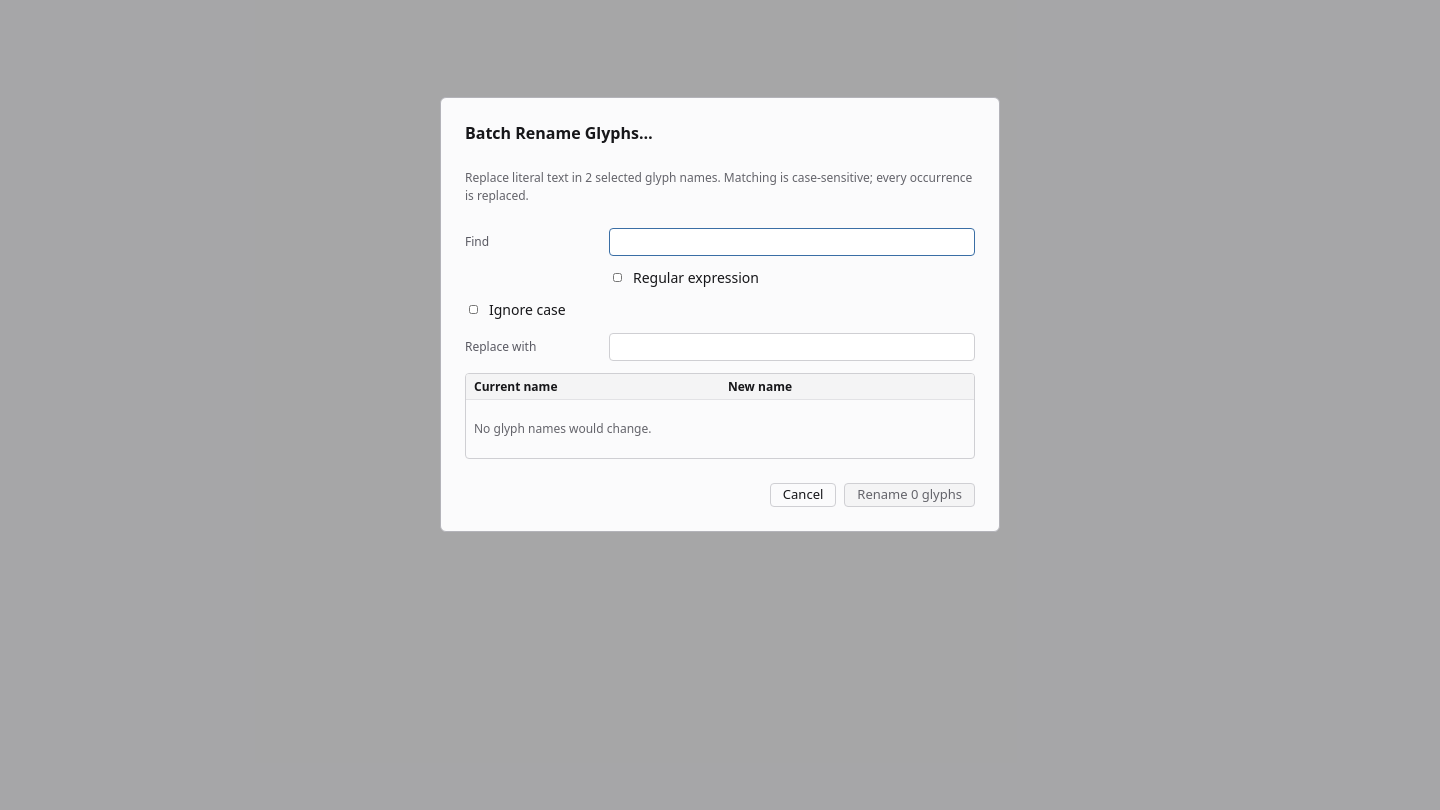
it: BatchRenameDialog › matches loosely only while Ignore case is on
Type "acute" into the field labelled "Find" at (792, 242), box [609,228,975,256]
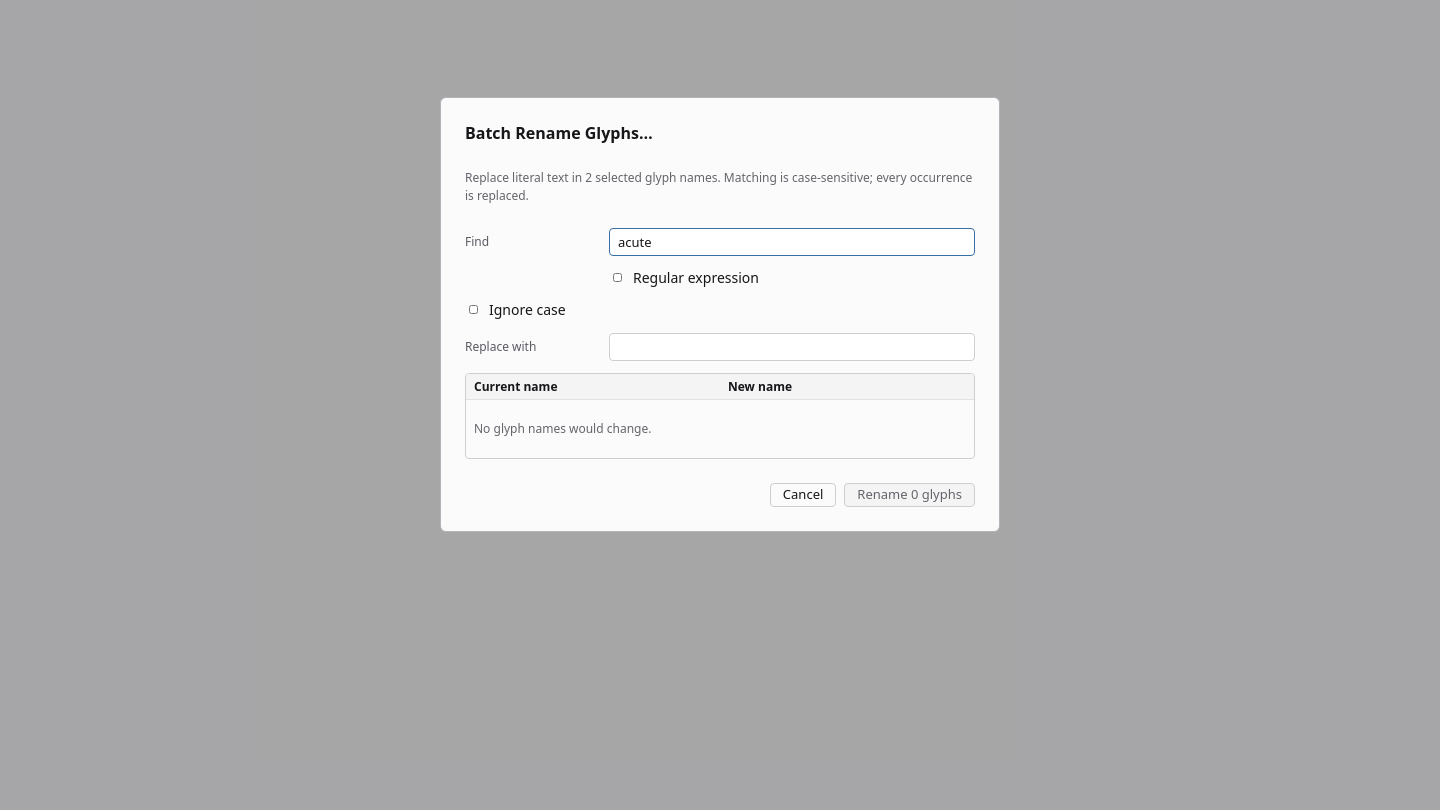
Expected: the text "No glyph names would change." is shown, [474,420,651,437]
Click the checkbox labelled "Ignore case" at (474, 310), box [469,304,478,316]
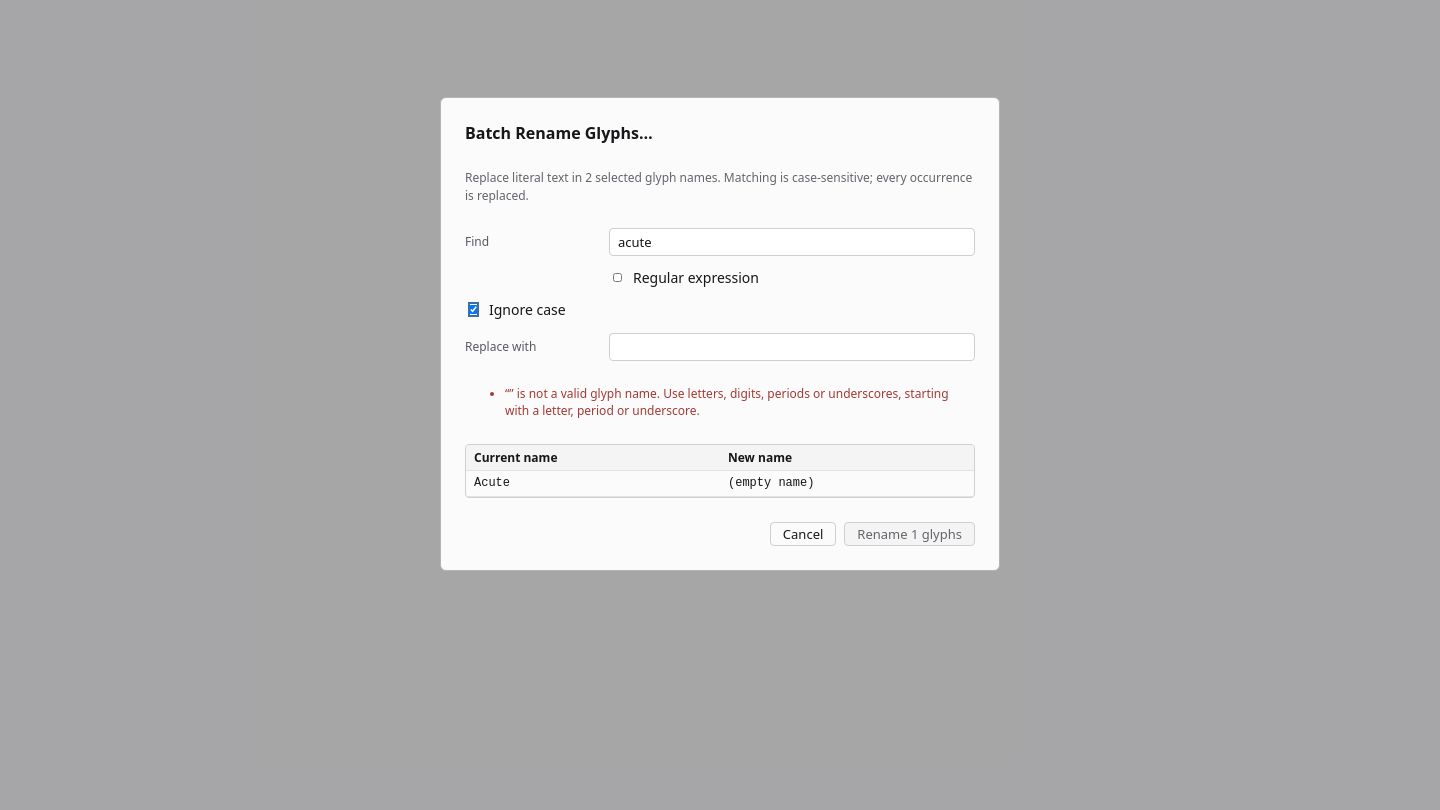
Type "grave" into the field labelled "Replace with" at (792, 347), box [609,333,975,361]
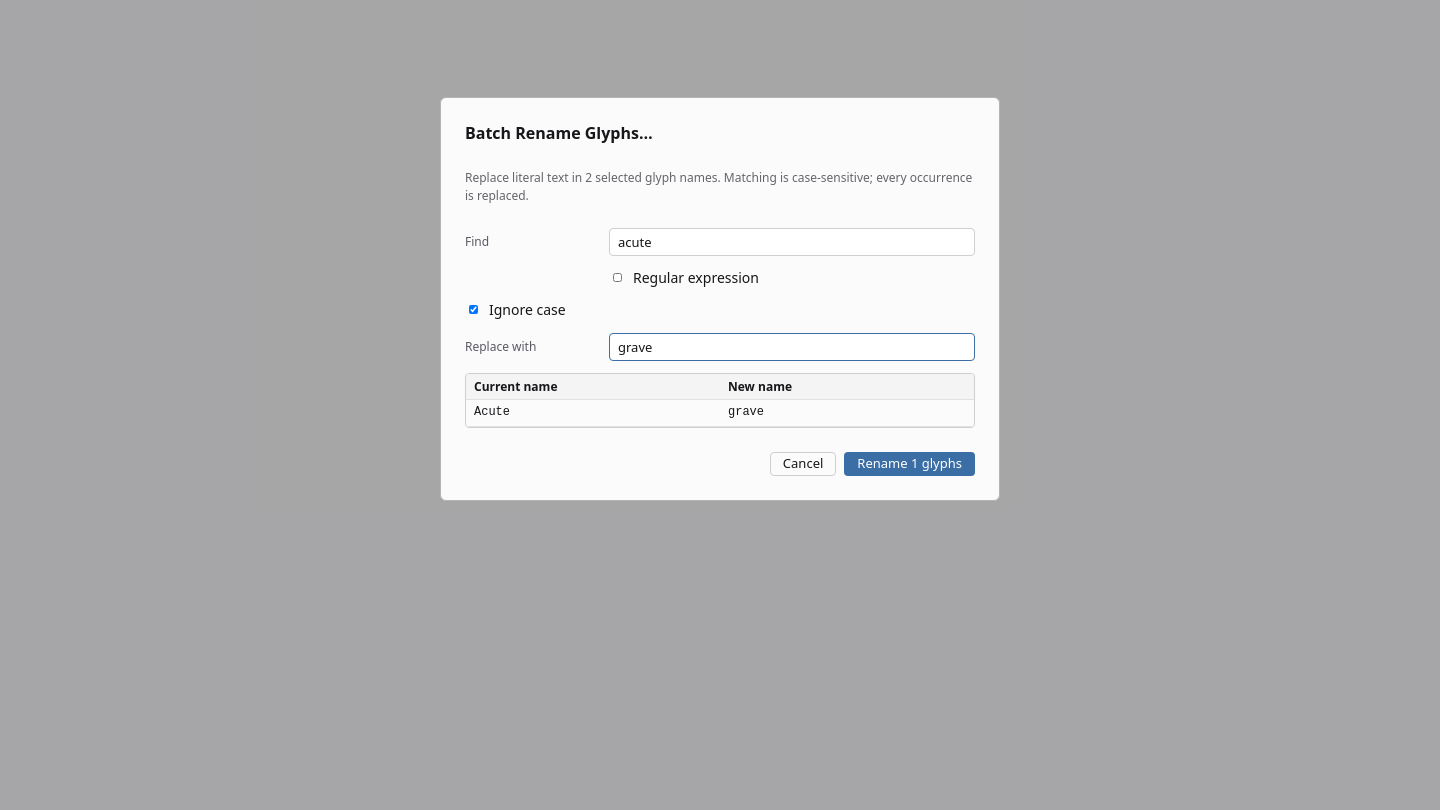
Now the text "grave" is shown, box [720,400,974,426]
